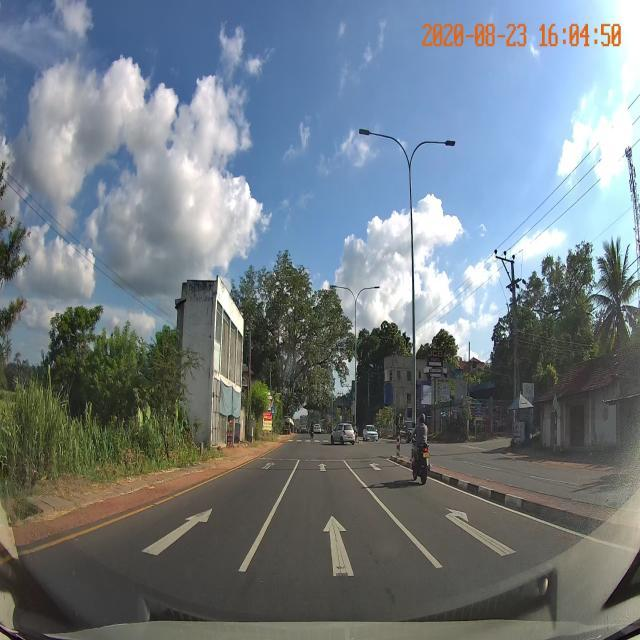forward: (226, 491, 457, 580)
